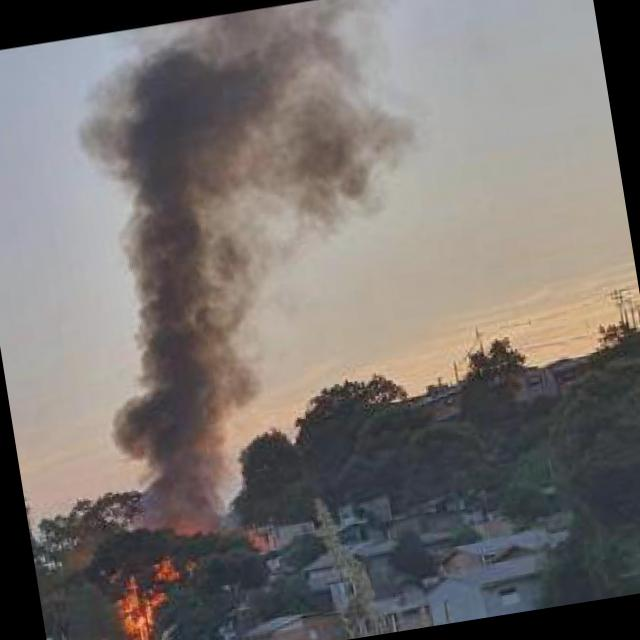fire: (106, 559, 187, 639)
smoke: (45, 0, 460, 540)
